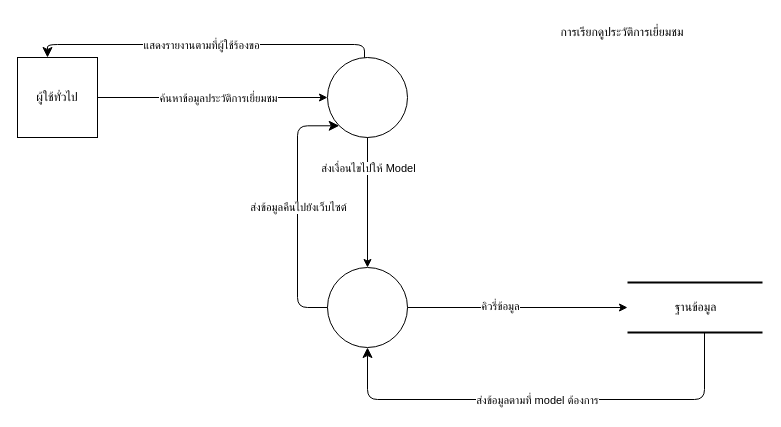
This 781x427 diagram has some shape labels left out. Here are the shapes that lost their labels. From the top down, the box of each, then its label:
(326, 56, 408, 138): เว็บไซต์
(326, 266, 408, 348): Model
